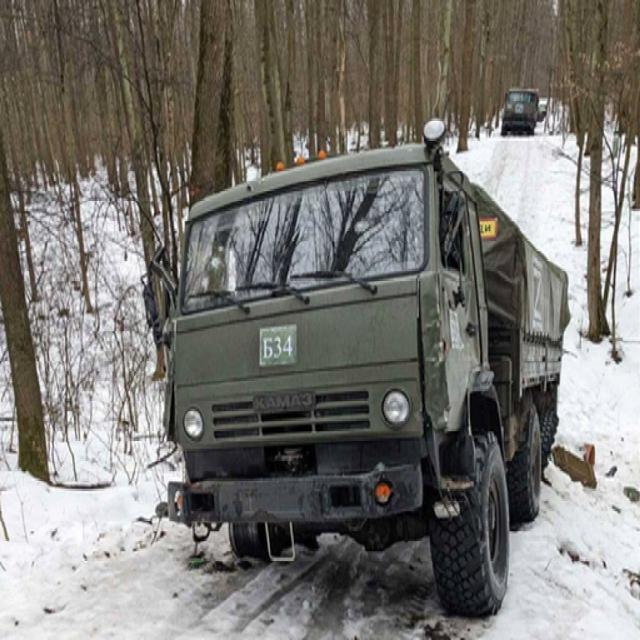TRUCK: (141, 131, 574, 620), (492, 78, 546, 138)
